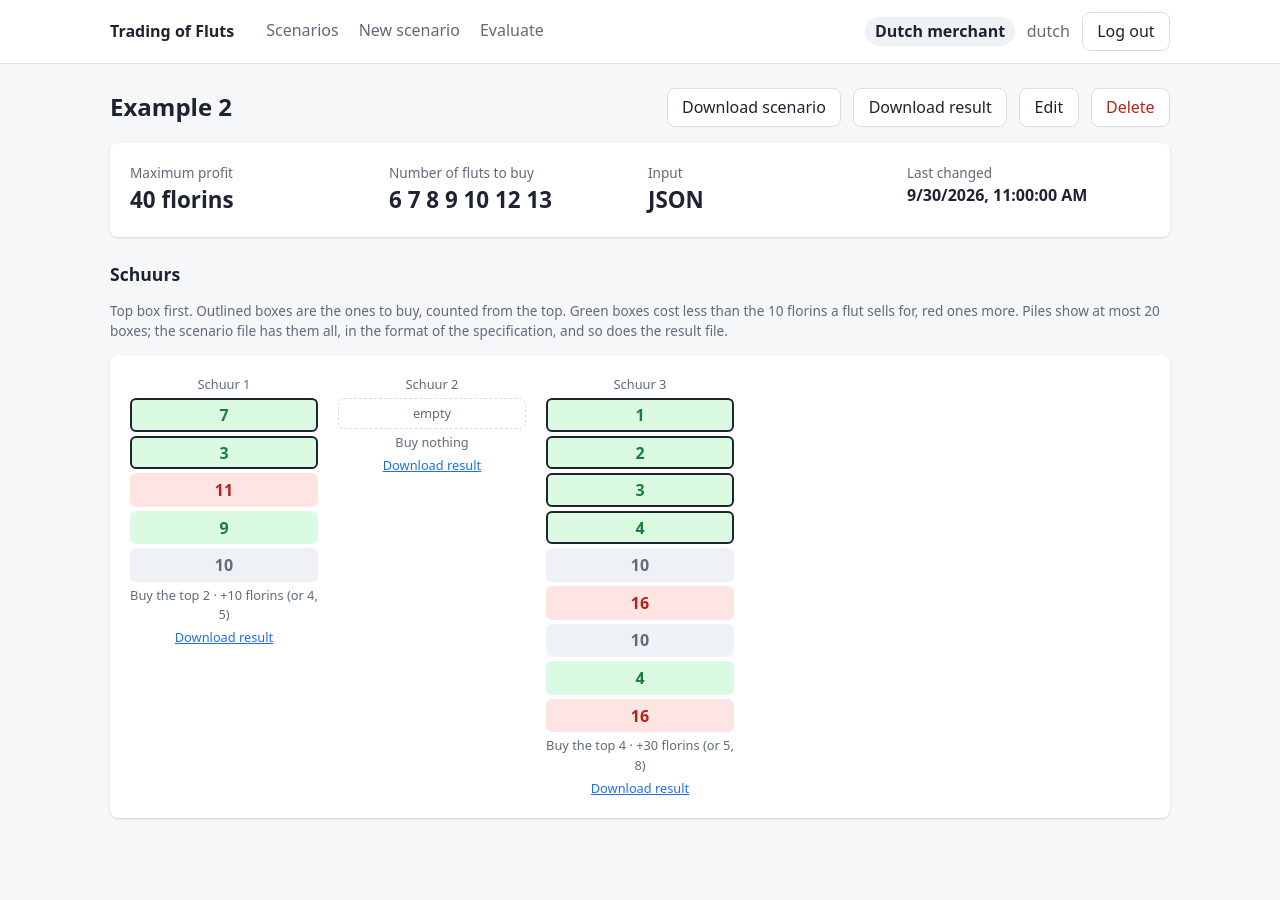
Test: ScenarioDetailPage › shows why a delete failed
Click the button "Delete" at (1130, 107), box [1091, 88, 1170, 127]
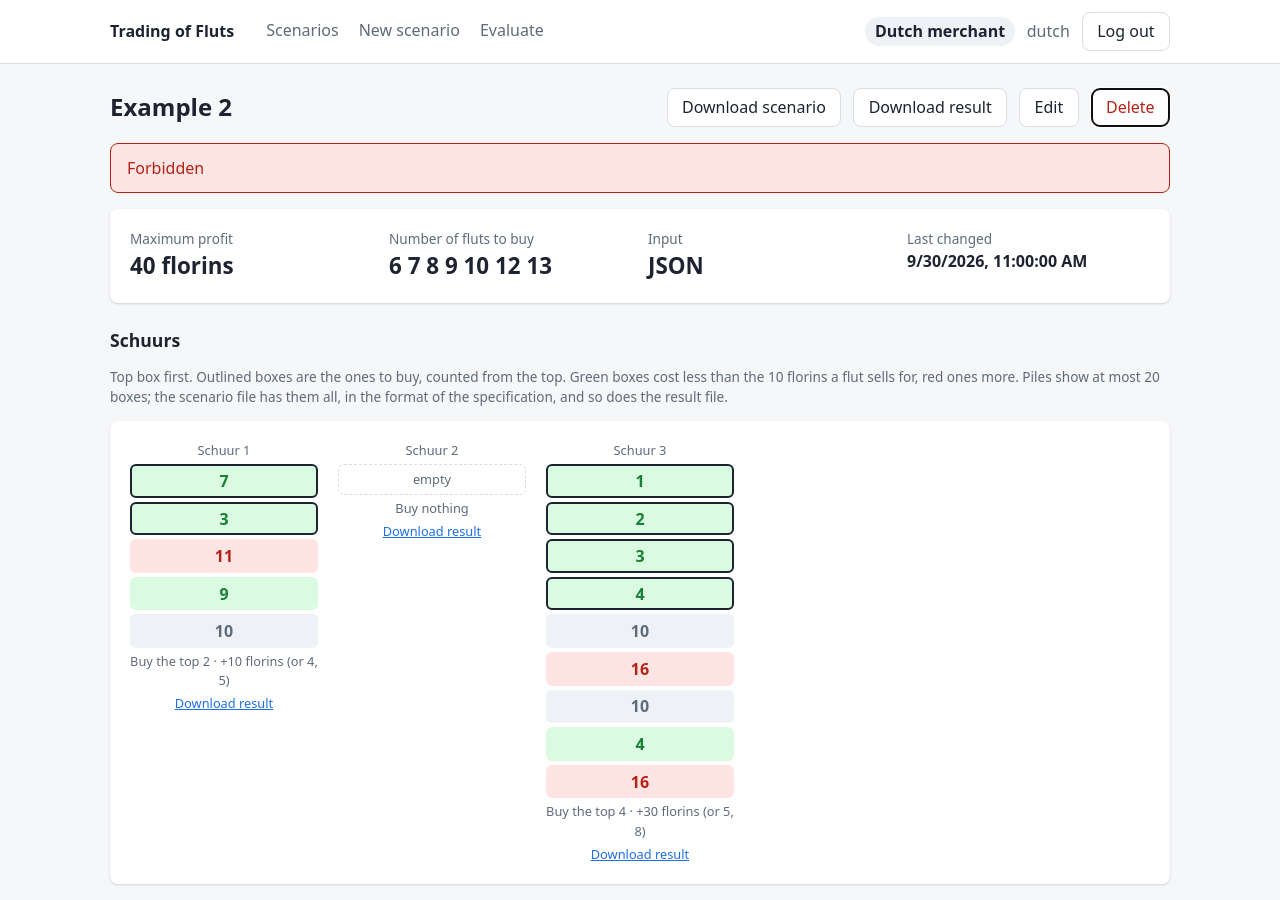
Expected: the message reads "Forbidden", [127, 157, 204, 179]
